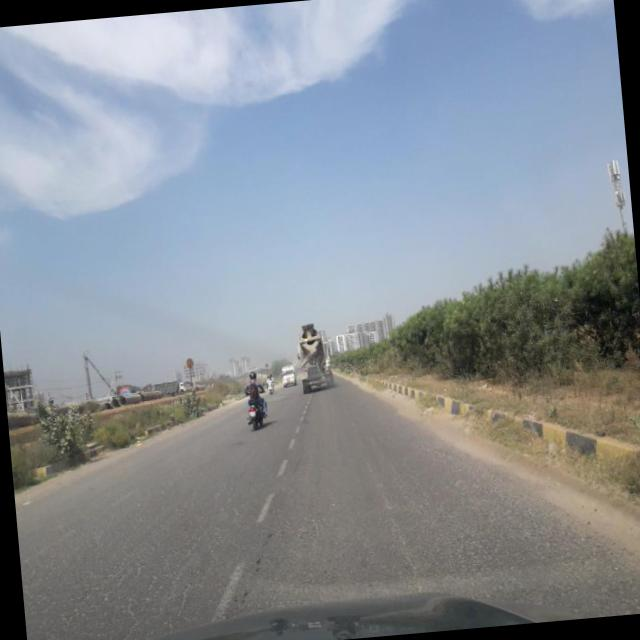crack: (14, 461, 229, 639)
pothole: (366, 452, 440, 586)
